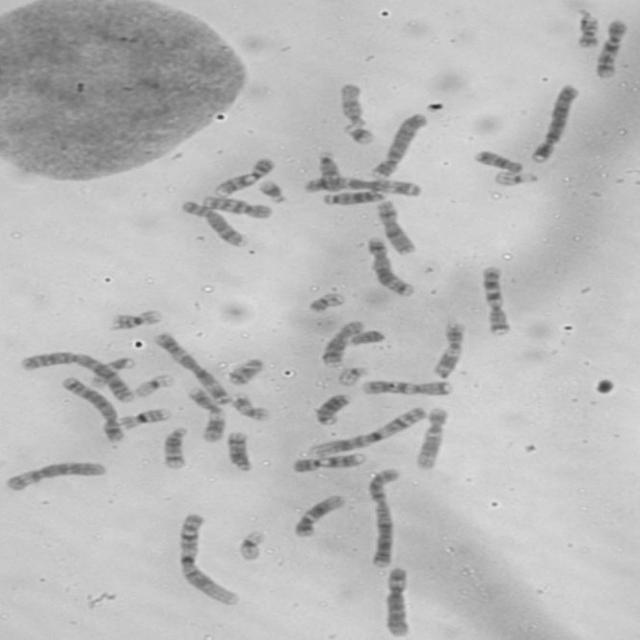A1: (304, 405, 428, 458), (174, 511, 242, 607)
A2: (16, 348, 137, 404), (364, 466, 400, 568)
A3: (150, 328, 232, 404), (300, 175, 423, 198)
B4: (526, 82, 581, 164), (367, 110, 429, 180)
B5: (58, 374, 126, 443), (364, 235, 416, 298)
C10: (592, 16, 630, 81), (198, 192, 274, 221)
C11: (183, 383, 229, 443), (429, 319, 466, 378)
C12: (290, 492, 347, 538), (412, 404, 450, 470)
C6: (1, 458, 109, 493), (380, 565, 413, 637)
C7: (478, 263, 512, 336), (359, 377, 454, 396)
C8: (177, 198, 248, 248), (317, 318, 366, 368)
C9: (210, 155, 276, 197), (288, 450, 366, 473)
D13: (310, 391, 353, 426), (319, 187, 388, 206)
D14: (223, 429, 256, 473), (159, 424, 190, 469)
D15: (336, 80, 369, 128), (313, 150, 343, 192)
E16: (114, 405, 172, 431), (107, 307, 164, 330)
E17: (85, 355, 137, 389), (227, 390, 272, 423)
E18: (472, 147, 524, 174), (224, 356, 265, 386)
F19: (131, 372, 176, 398), (234, 528, 267, 562)
F20: (574, 12, 602, 49), (305, 290, 346, 313)
G21: (339, 121, 377, 146), (256, 178, 288, 204)
G22: (489, 168, 538, 187), (335, 365, 369, 387)
X: (374, 198, 417, 255)
Y: (346, 328, 387, 347)
